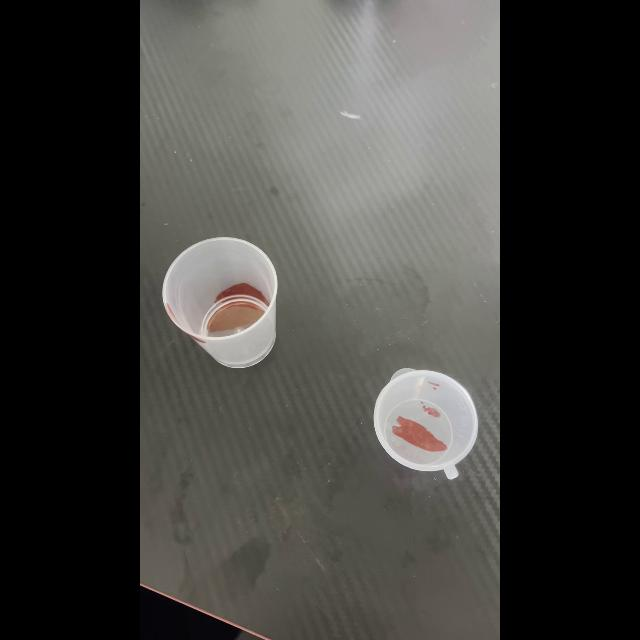dirty: (161, 238, 279, 366), (374, 370, 480, 478)
